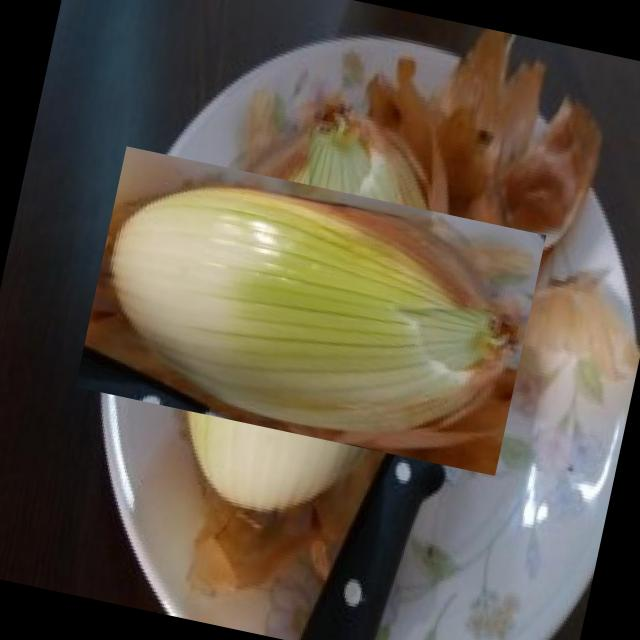Onion: (110, 111, 510, 511)
